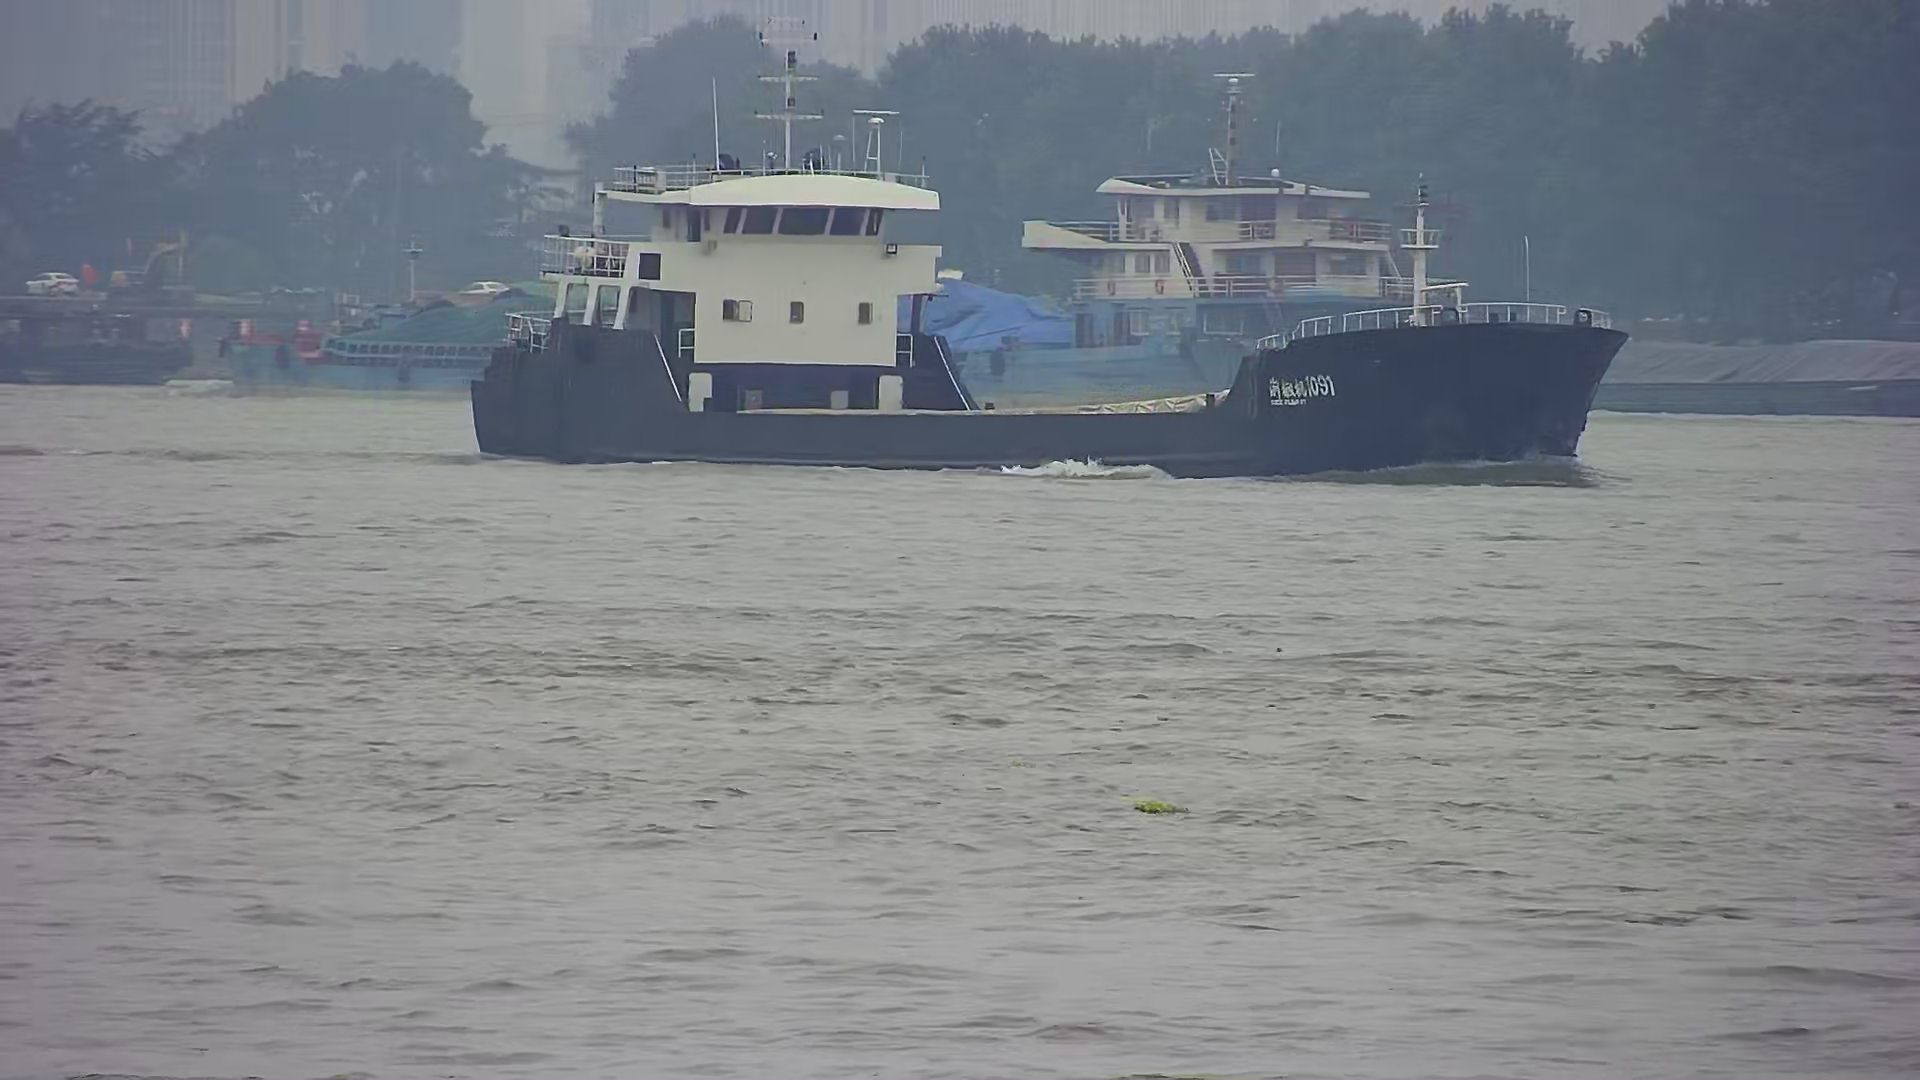ship: (454, 21, 1631, 483), (948, 58, 1429, 398), (214, 284, 550, 404)
